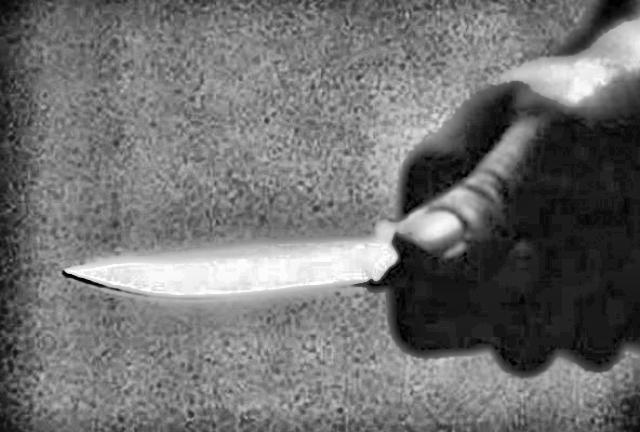knife: (56, 207, 638, 381)
